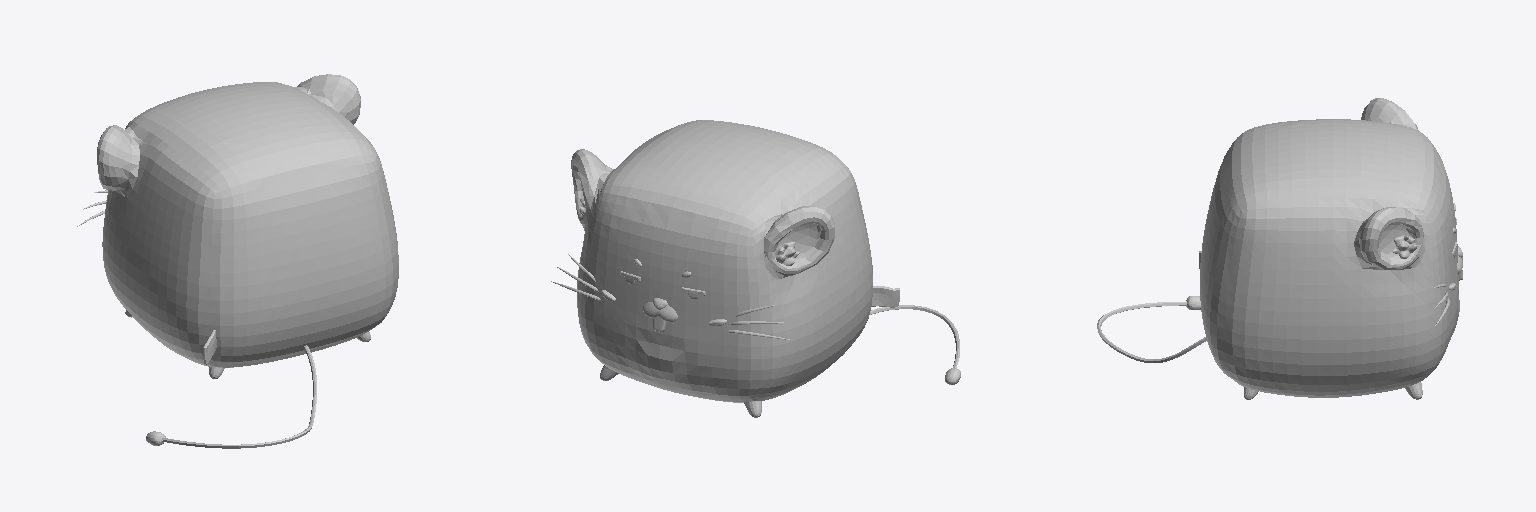
File: rat.obj
3 renders of one model, left to right at view 1: azimuth 30°, elevation 25°; view 2: azimuth 150°, elevation 25°; view 3: azimuth 270°, elevation 25°, orthographic.
Parts seen in each view (by area): view 1: body_low_RatPlushy_0, tail_low_RatPlushy_0; view 2: body_low_RatPlushy_0, moustache_low_RatPlushy_0, tail_low_RatPlushy_0, price_low_RatPlushy_0; view 3: body_low_RatPlushy_0, tail_low_RatPlushy_0.
Part boxes in pixels (x1,y1,x2,y2): body_low_RatPlushy_0: (97, 74, 398, 367); tail_low_RatPlushy_0: (162, 345, 316, 448); body_low_RatPlushy_0: (571, 120, 872, 402); moustache_low_RatPlushy_0: (551, 254, 789, 339); tail_low_RatPlushy_0: (870, 305, 959, 367); price_low_RatPlushy_0: (871, 286, 899, 307); body_low_RatPlushy_0: (1200, 98, 1459, 397); tail_low_RatPlushy_0: (1097, 301, 1206, 362).
Bounding box in the file's own units: 3.21 × 2.52 × 3.4.